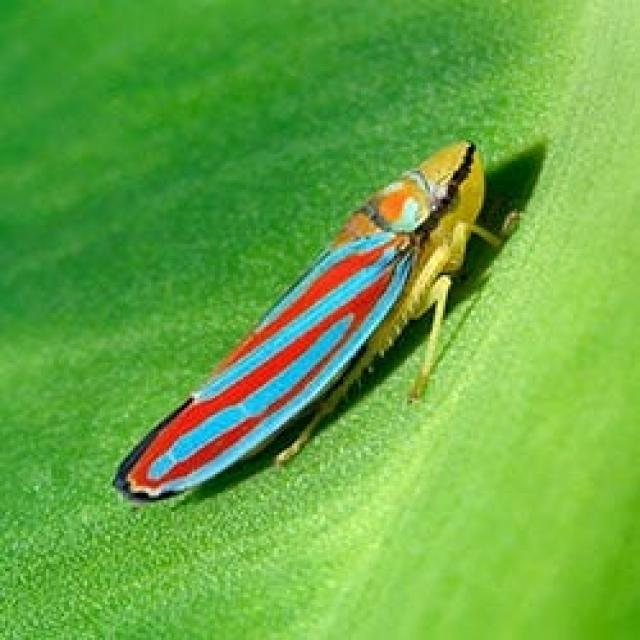Yechan: (93, 124, 505, 517)
